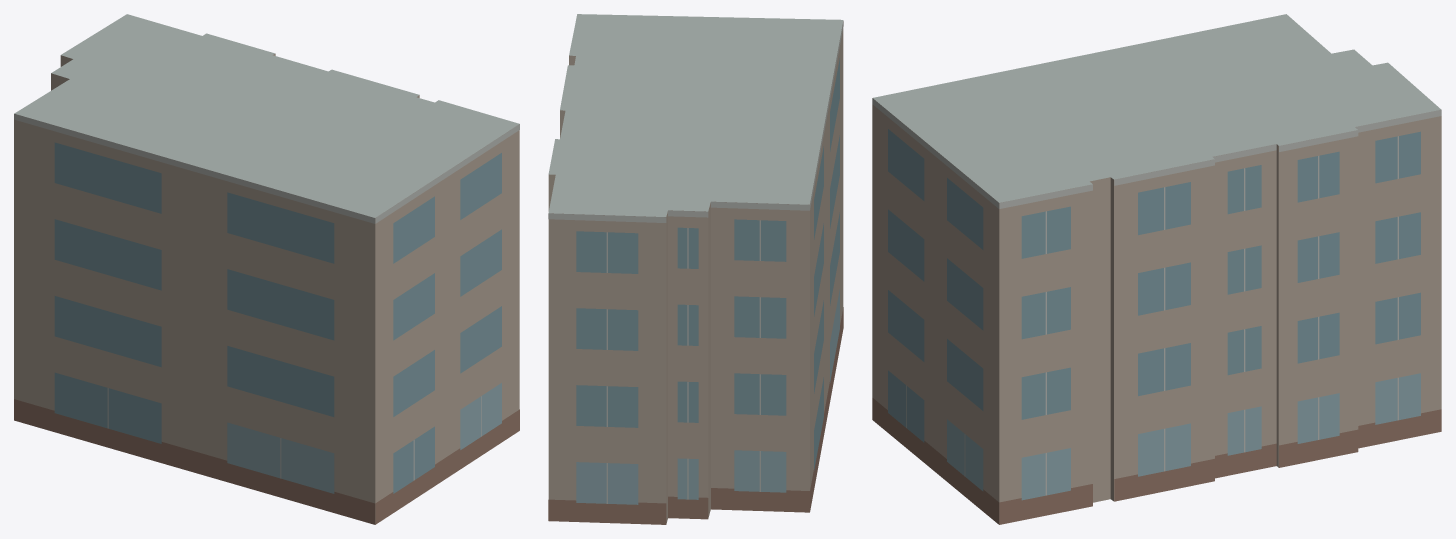
The model's file is survey-upis-32613322.glb.
3 views of the same model, side by side, from view 1: azimuth 30°, elevation 25°; view 2: azimuth 150°, elevation 25°; view 3: azimuth 270°, elevation 25° (orthographic). The views are drawn at different scales.
Visible parts, largest first — view 1: survey-upis-32613322.tmp; view 2: survey-upis-32613322.tmp; view 3: survey-upis-32613322.tmp.
Boxes of the visible parts, box(x1,y1,x2,y2) form: survey-upis-32613322.tmp: box(14, 14, 519, 524); survey-upis-32613322.tmp: box(548, 14, 843, 524); survey-upis-32613322.tmp: box(872, 14, 1441, 524).
Size of the model in its own units: 15.73 by 12.5 by 20.03.
